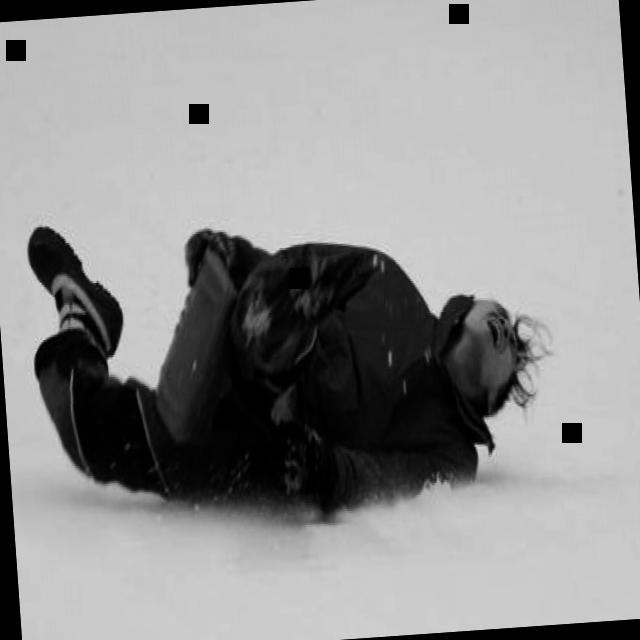Fall-Detected: (0, 156, 565, 562)
